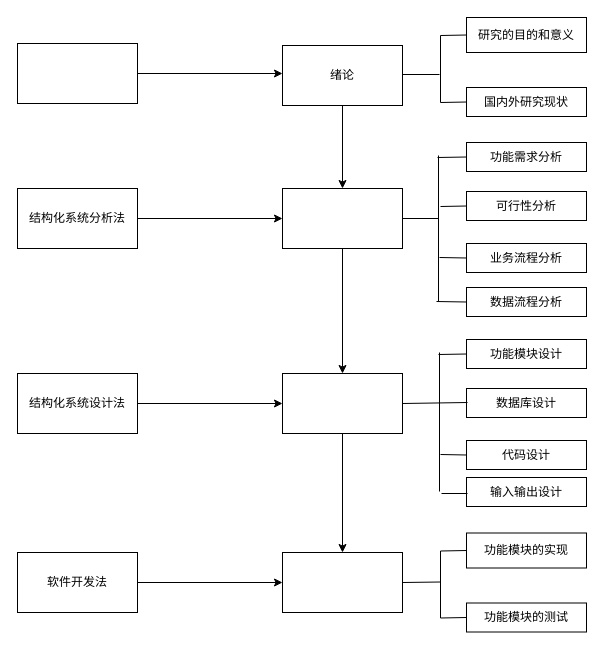
Some shapes in this 604 by 650 pixel diagram are drawn without their labels. Each missing label, with the centre of its shape:
"文献法" belongs at (77,73).
"系统分析" belongs at (342,218).
"系统实现" belongs at (342,582).
"系统设计" belongs at (342,403).
